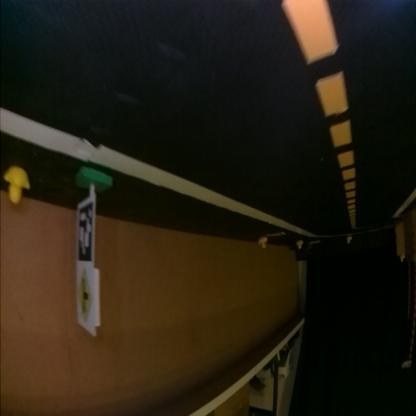Duckie: (8, 167, 30, 202), (258, 238, 268, 250), (297, 240, 305, 250), (347, 238, 352, 245)
Intersection sign: (77, 268, 95, 320)
QR code: (78, 200, 95, 262)
